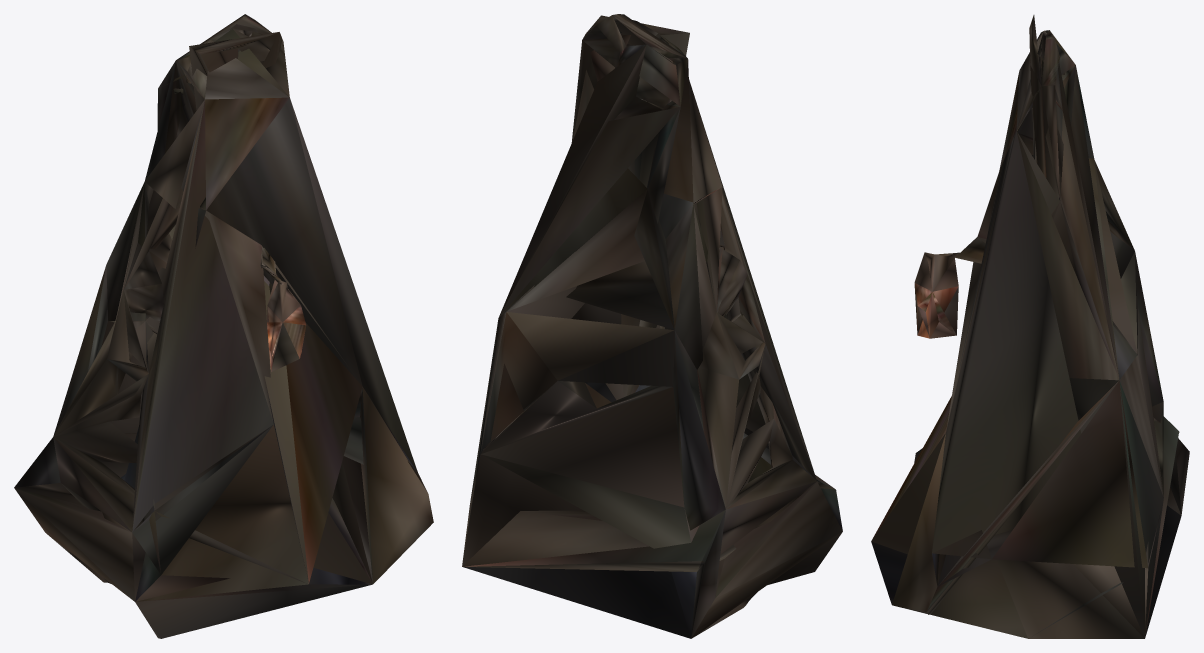
File: repere-chevalement-loin.glb
3 renders of one model, left to right at view 1: azimuth 30°, elevation 25°; view 2: azimuth 150°, elevation 25°; view 3: azimuth 270°, elevation 25°, orthographic. The views are drawn at different scales.
Parts seen in each view (by area): view 1: repere-chevalement-loin; view 2: repere-chevalement-loin; view 3: repere-chevalement-loin.
Part boxes in pixels (x1=…): repere-chevalement-loin: x1=14, y1=14, x2=433, y2=638; repere-chevalement-loin: x1=462, y1=14, x2=842, y2=638; repere-chevalement-loin: x1=871, y1=15, x2=1189, y2=638.
Bounding box in the file's own units: 1.05 × 1.87 × 0.9512.
Materials: 1 (1 with a texture image).
